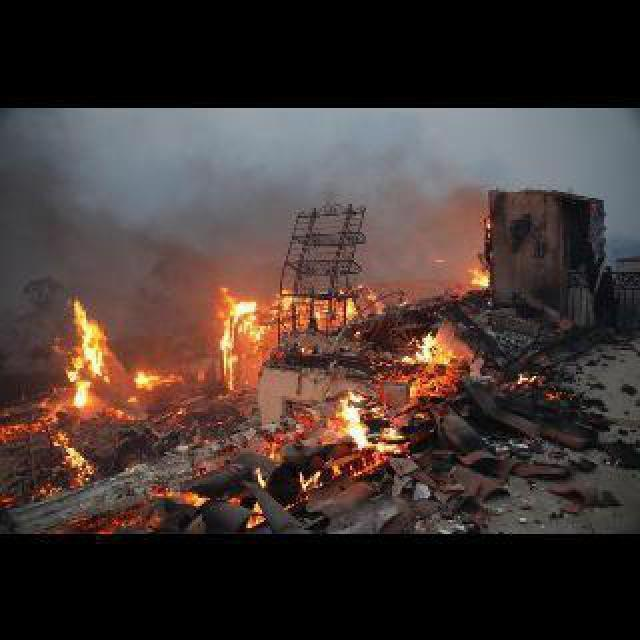Fire: (314, 320, 472, 464), (198, 258, 350, 402), (56, 288, 164, 404), (298, 456, 384, 504), (46, 422, 104, 492), (148, 480, 212, 520), (250, 434, 294, 490), (460, 254, 504, 296), (514, 364, 546, 392)
